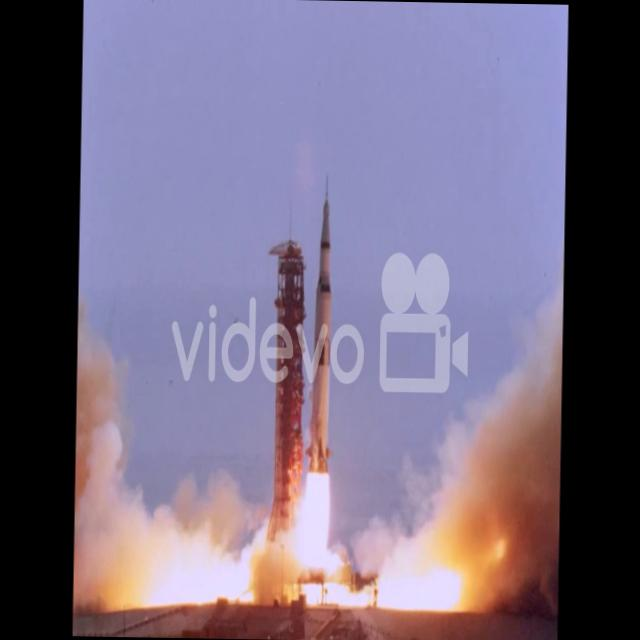rocket: (303, 169, 341, 532)
